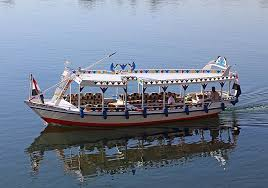boat: (24, 50, 240, 130)
